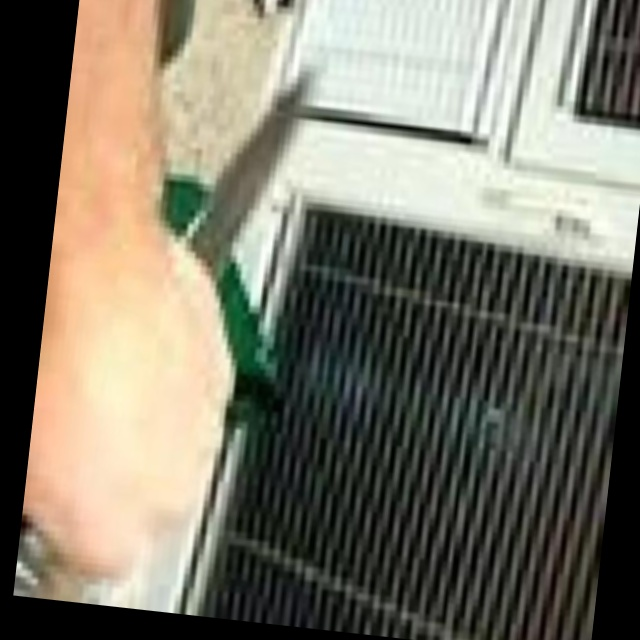Sharp-Object: (20, 45, 317, 609)
